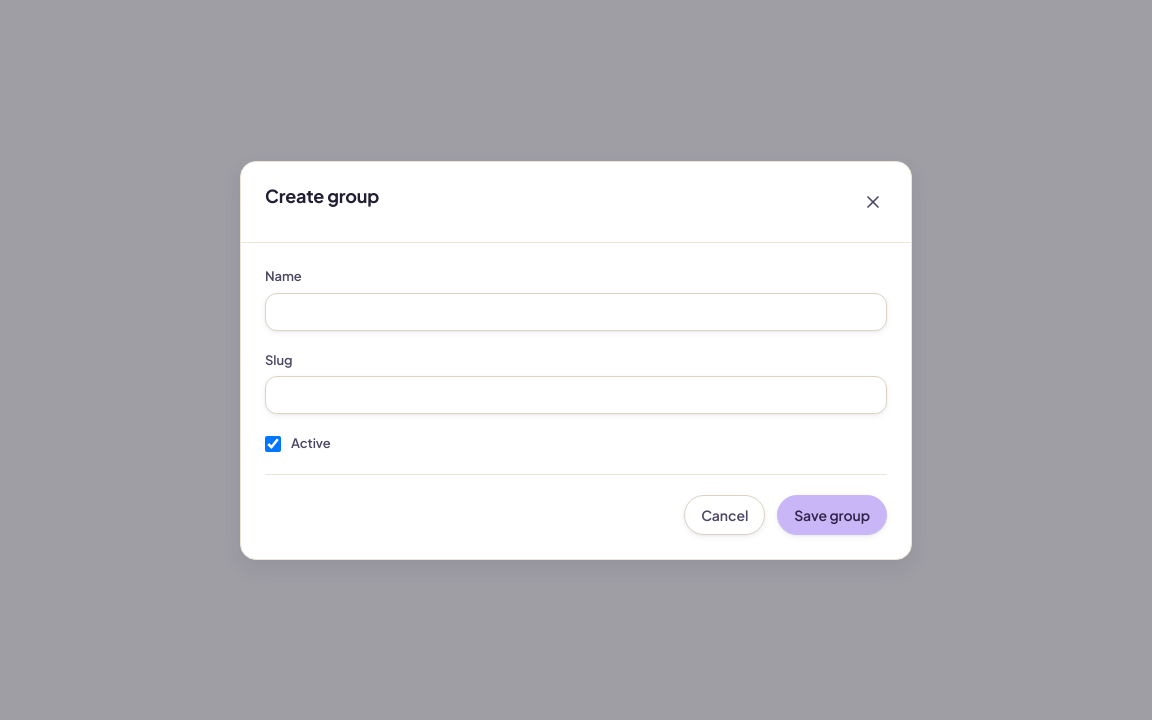
Test: GroupFormModal › required-field validation works
The image size is (1152, 720).
Click the button "Save group".
click(832, 514)  # box [777,494,887,534]
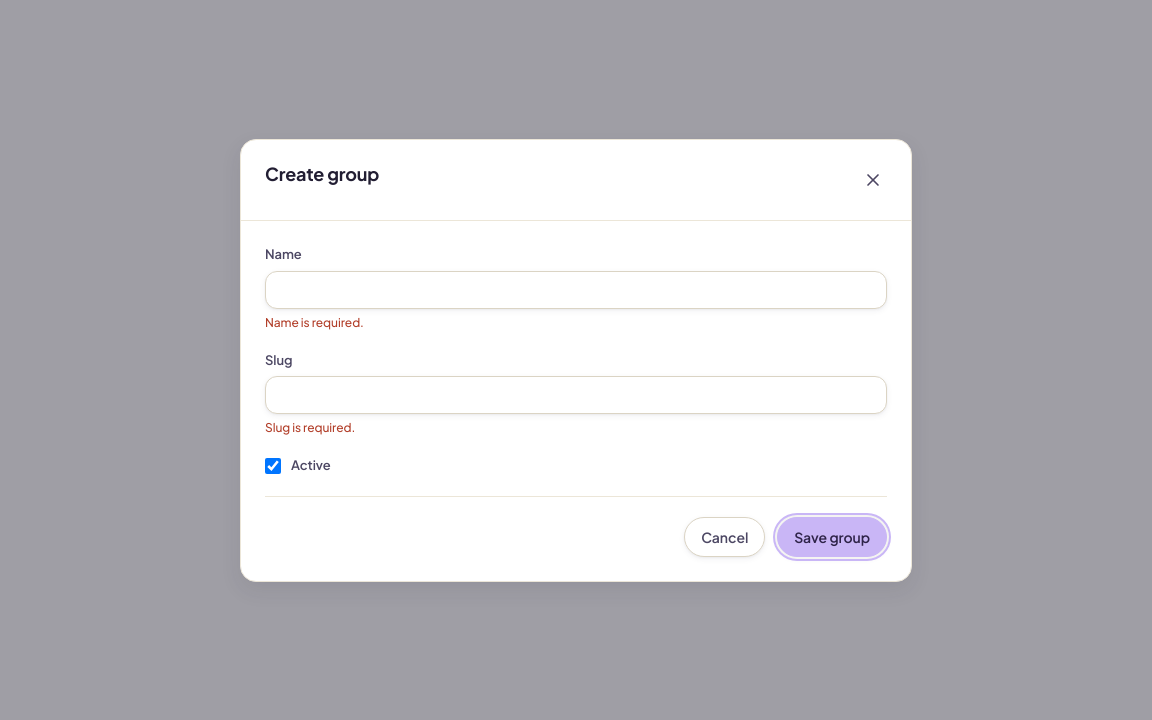
expect the list item "Name is required." is shown: met, box [265,314,364,329]
expect the list item "Slug is required." is shown: met, box [265,420,355,435]
